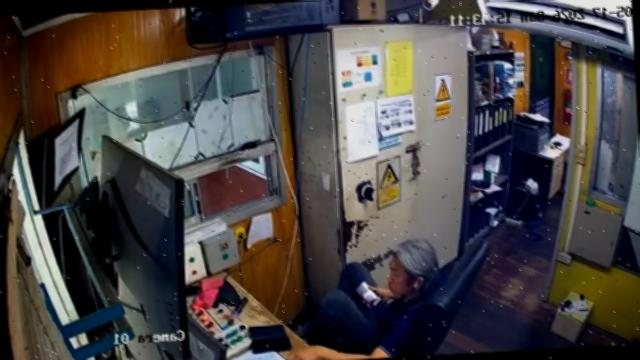People: (281, 239, 444, 360)
Phone: (351, 278, 386, 312), (249, 336, 293, 353)
